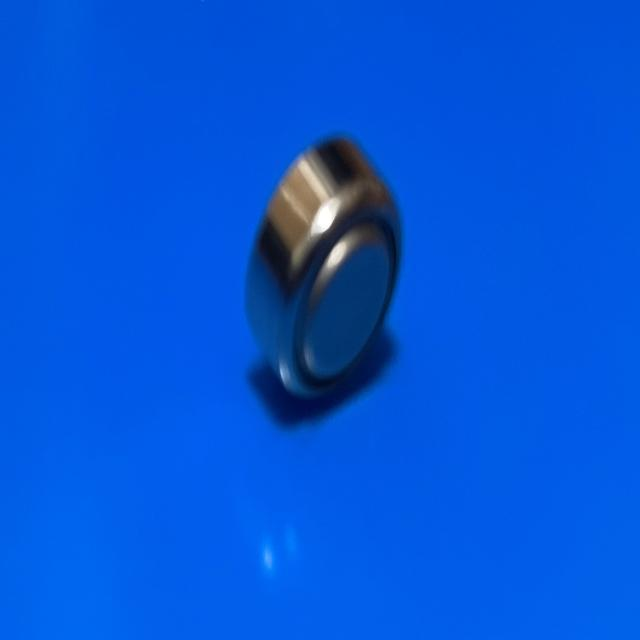COIN: (244, 124, 408, 406)
